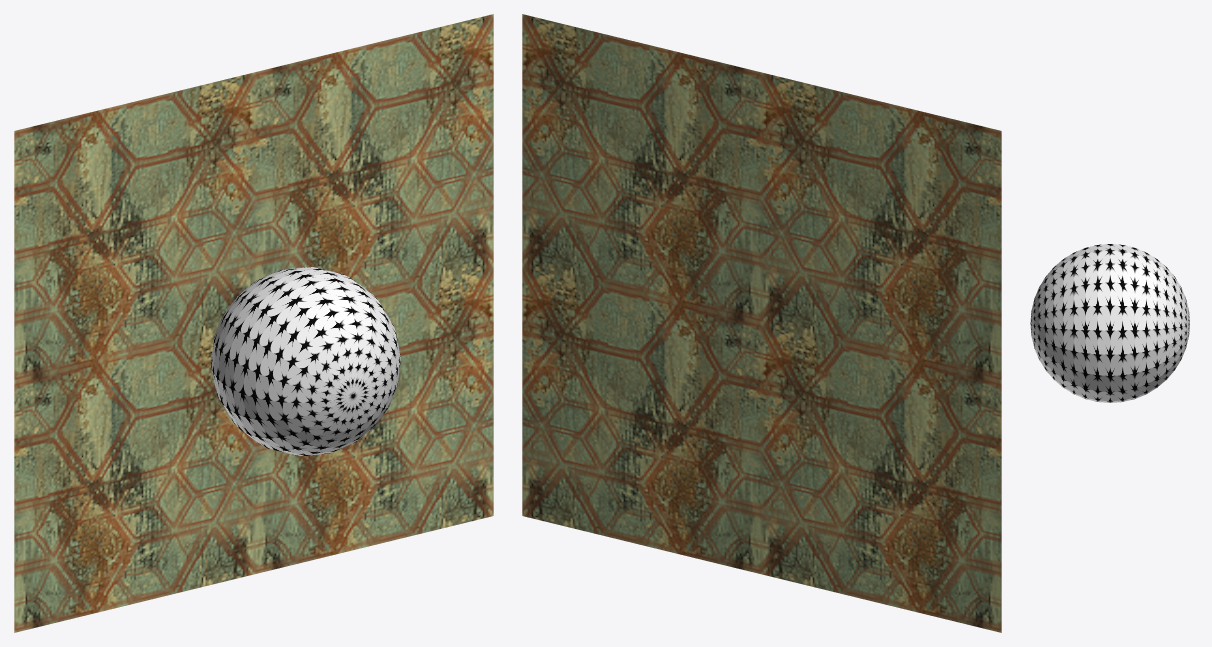
The picture shows the model from 3 angles, left to right: view 1: azimuth 30°, elevation 25°; view 2: azimuth 150°, elevation 25°; view 3: azimuth 270°, elevation 25°; orthographic projection. The views are drawn at different scales.
Parts seen in each view (by area): view 1: floor, sphere1_sphere.001; view 2: floor; view 3: sphere1_sphere.001.
Boxes of the visible parts, <box> form: floor: <box>14,14,493,632</box>; sphere1_sphere.001: <box>211,267,400,455</box>; floor: <box>522,14,1001,632</box>; sphere1_sphere.001: <box>1030,244,1189,402</box>.
Bounding box in the file's own units: 16 × 16 × 5.74.
